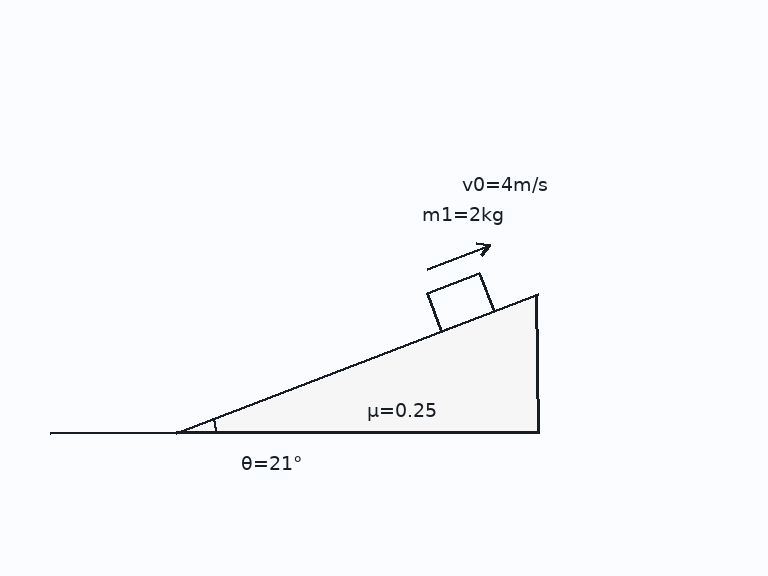block: (425, 271, 495, 333)
ramp: (174, 292, 540, 435)
